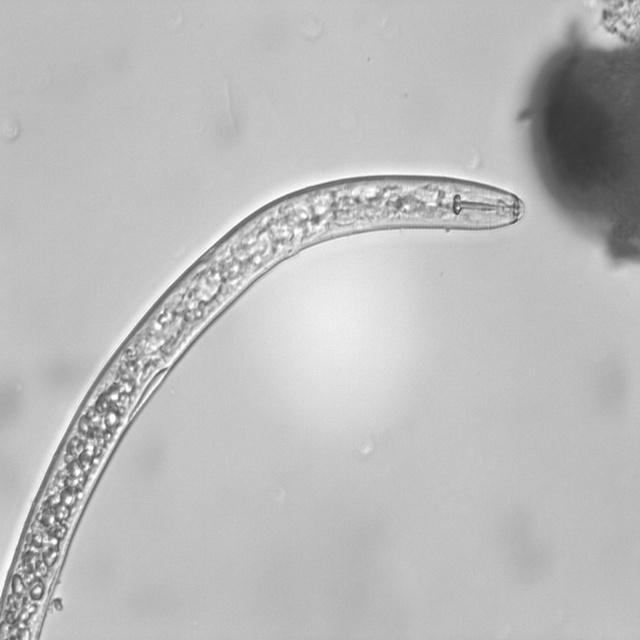Helicotylenchus: (0, 159, 535, 640)
